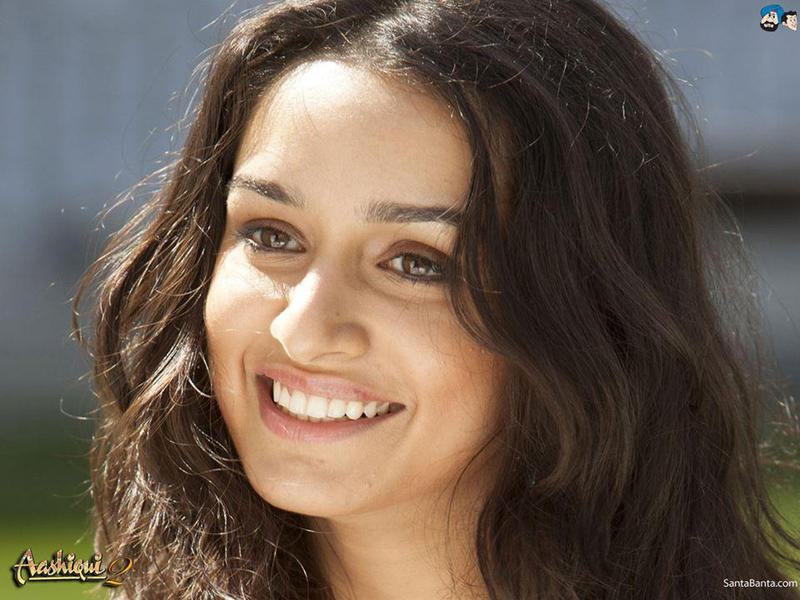without_mask: (200, 63, 517, 519)
